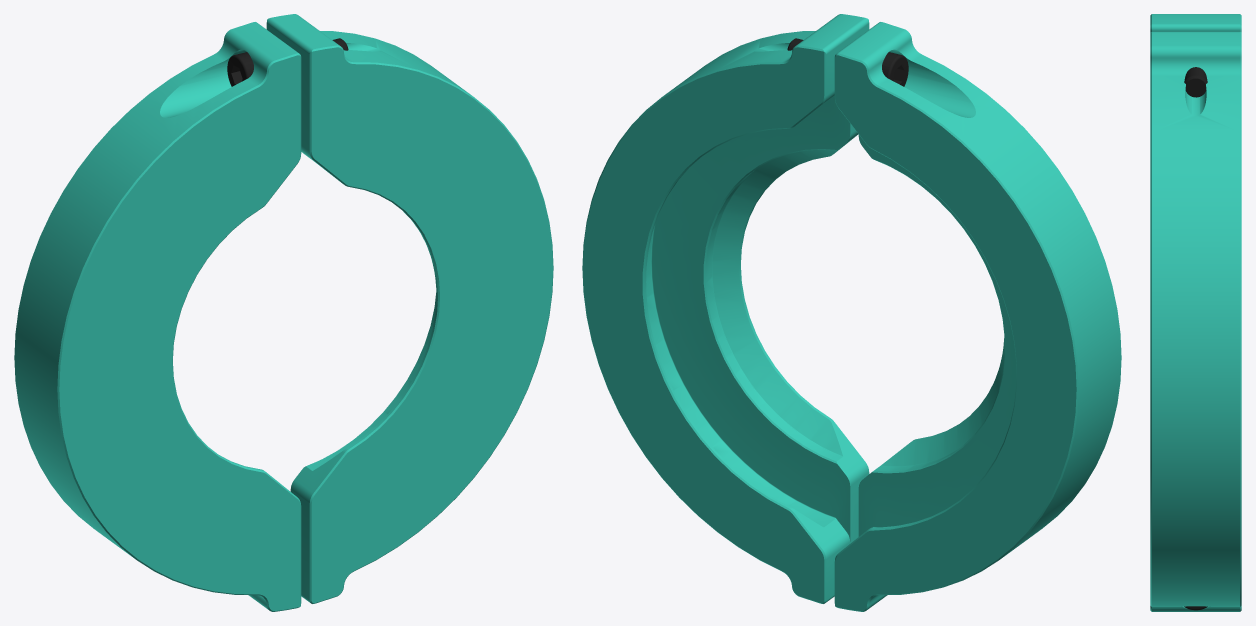
The picture shows the model from 3 angles, left to right: view 1: azimuth 30°, elevation 25°; view 2: azimuth 150°, elevation 25°; view 3: azimuth 270°, elevation 25°; orthographic projection. The views are drawn at different scales.
Parts seen in each view (by area): view 1: C116-86.001; view 2: C116-86.001; view 3: C116-86.001.
Part boxes in pixels (<box>): C116-86.001: <box>14,14,553,611</box>; C116-86.001: <box>582,14,1121,611</box>; C116-86.001: <box>1150,14,1241,611</box>.
Bounding box in the file's own units: 0.116 × 0.1239 × 0.018.
